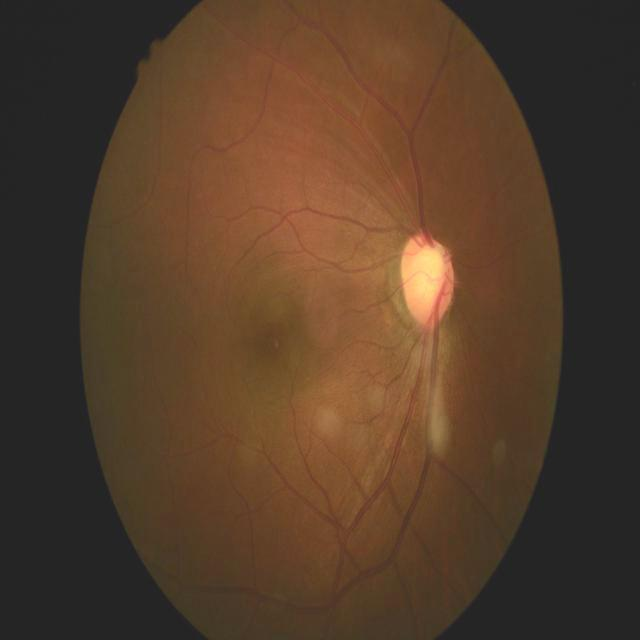cup: (415, 244, 451, 314)
disk: (400, 231, 454, 331)
